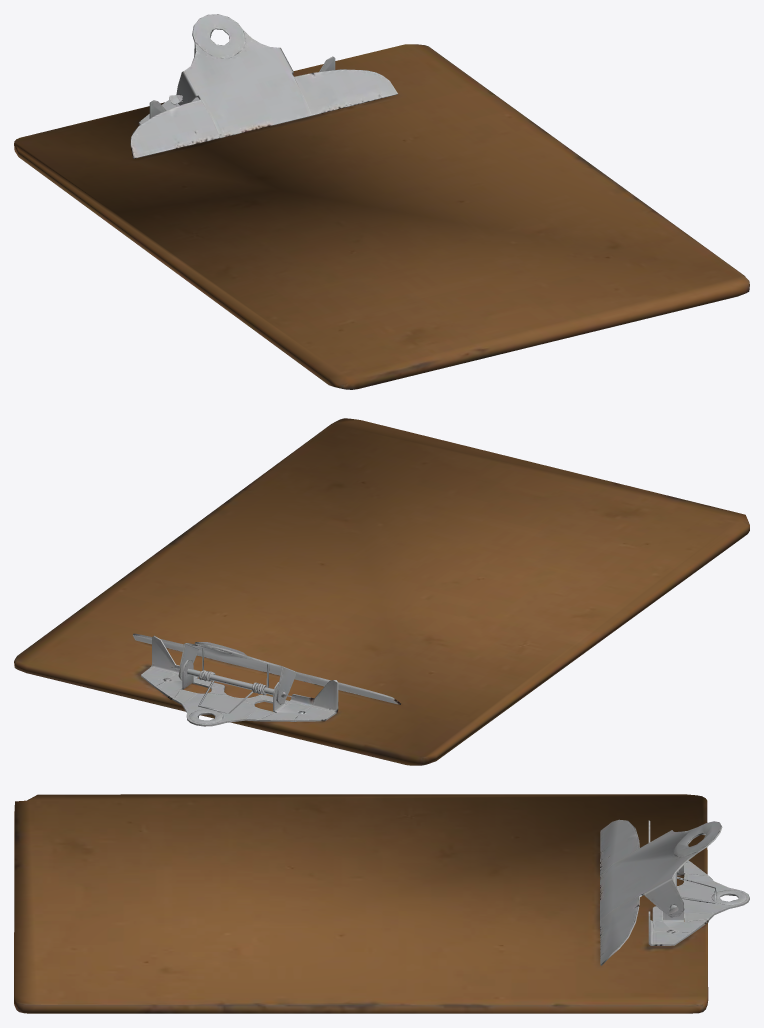
The model's file is clipboard.glb.
3 renders of one model, top to bottom at view 1: azimuth 30°, elevation 25°; view 2: azimuth 150°, elevation 25°; view 3: azimuth 270°, elevation 25°, orthographic. The views are drawn at different scales.
Visible parts, largest first — view 1: clipboard; view 2: clipboard; view 3: clipboard.
Part boxes in pixels (box(x1,y1,x2,y2)): clipboard: box(14, 14, 749, 389); clipboard: box(14, 418, 749, 765); clipboard: box(14, 794, 749, 1013).
Size of the model in its own units: 0.2283 by 0.042 by 0.3364.
Materials: 1 (1 with a texture image).
